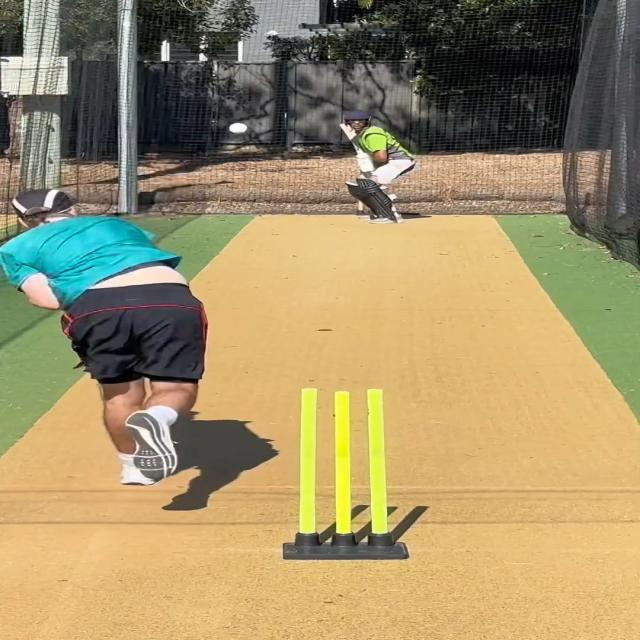ball: (227, 121, 250, 135)
stump: (281, 387, 408, 560)
